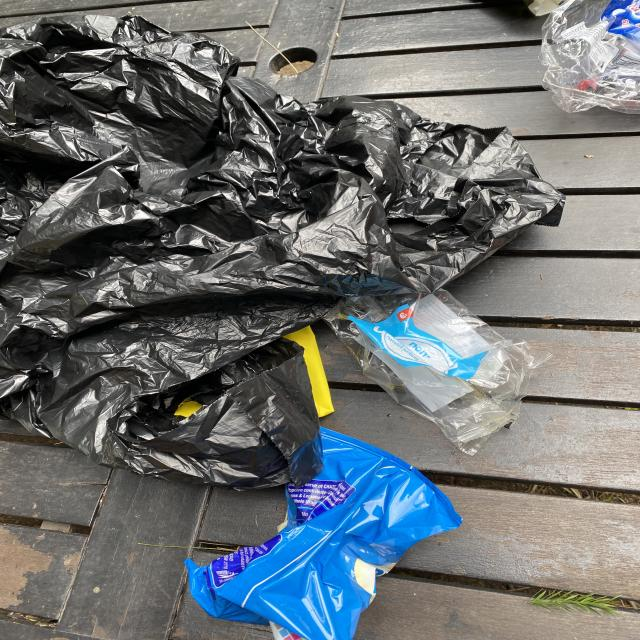bag: (0, 13, 560, 490), (182, 427, 464, 640)
wrappers: (324, 289, 552, 456), (539, 0, 640, 115)
